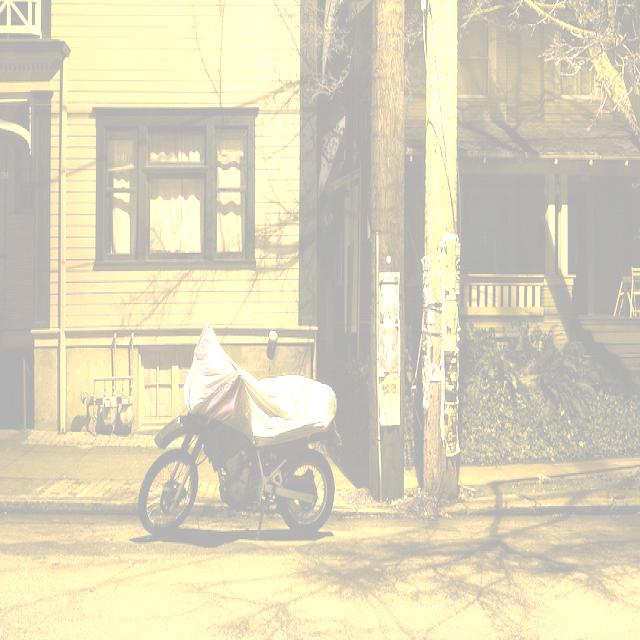Motorbike: (137, 324, 336, 544)
